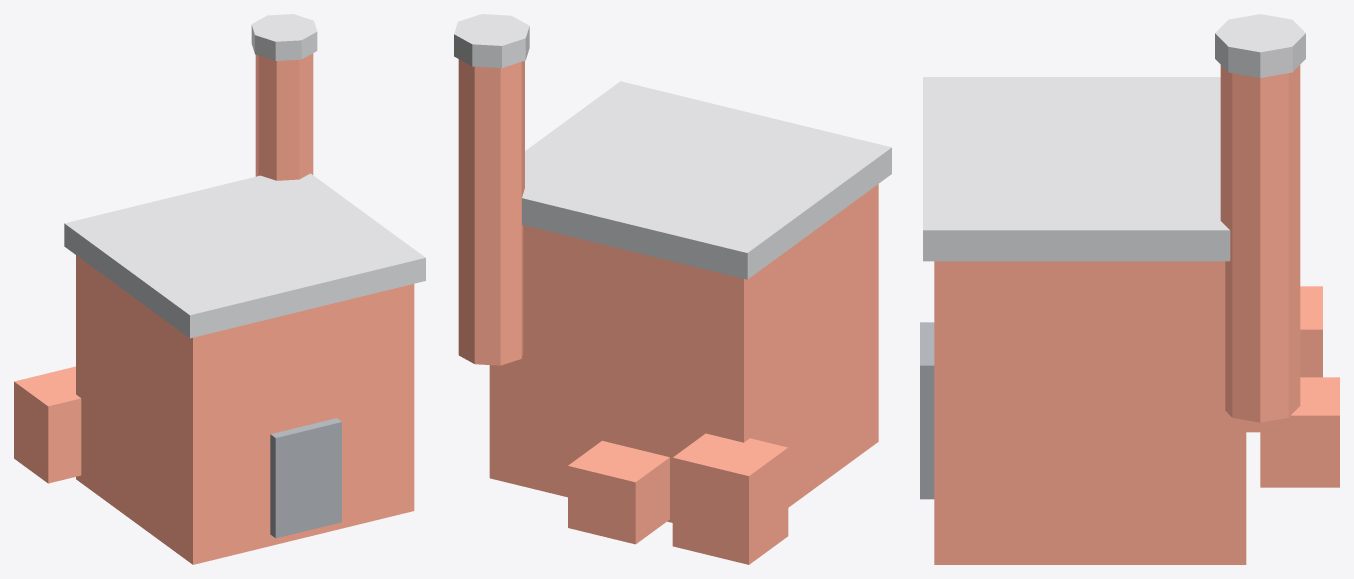
The model's file is brickkiln.glb.
The picture shows the model from 3 angles, left to right: view 1: azimuth 30°, elevation 25°; view 2: azimuth 150°, elevation 25°; view 3: azimuth 270°, elevation 25°; orthographic projection. The views are drawn at different scales.
Parts seen in each view (by area): view 1: brickkiln; view 2: brickkiln; view 3: brickkiln.
Part boxes in pixels (x1,y1,x2,y2): brickkiln: [14, 14, 425, 564]; brickkiln: [454, 14, 891, 564]; brickkiln: [920, 14, 1339, 564].
Size of the model in its own units: 0.75 by 1.02 by 0.74.
